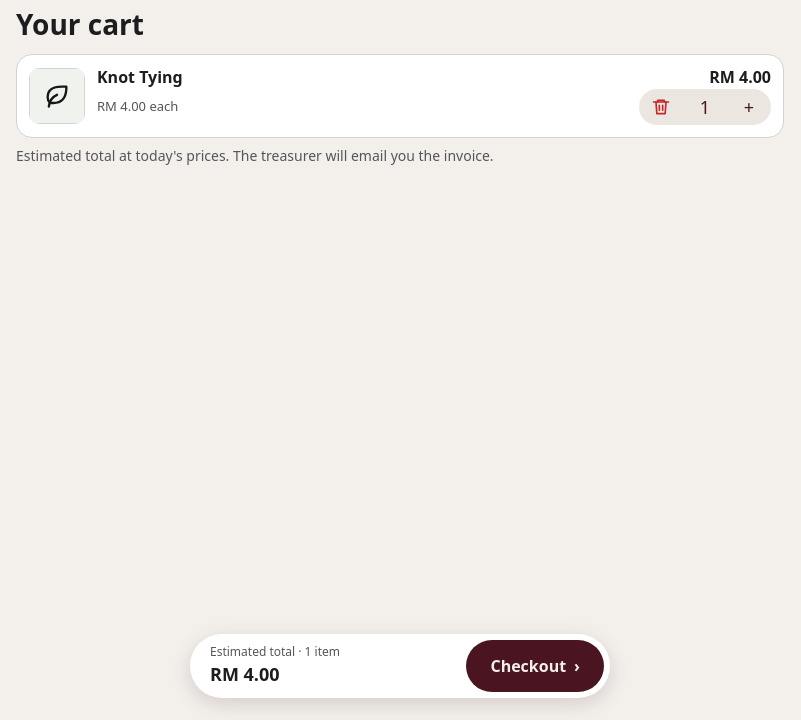
Scenario: CartScreen empty, loading and error › shows the empty state when the last line is removed, keeping the note
What coordinates should you click on to do the following:
click the button named "Remove Knot Tying"
I would click on:
 (661, 107)
Its box is [639,85,683,129].
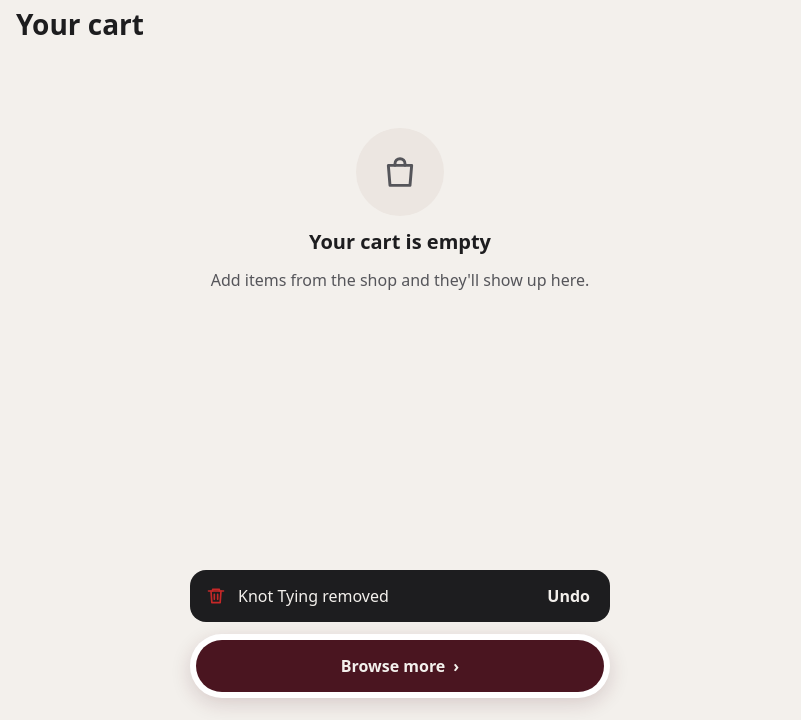
Expected: the text "Your cart is empty" is shown, [309,228,491,256]
Expected: the button with aria-label "Undo removing Knot Tying" is shown, [531,574,606,618]
Expected: the number of buttons "Browse more ›" is 1, [196,640,604,692]
